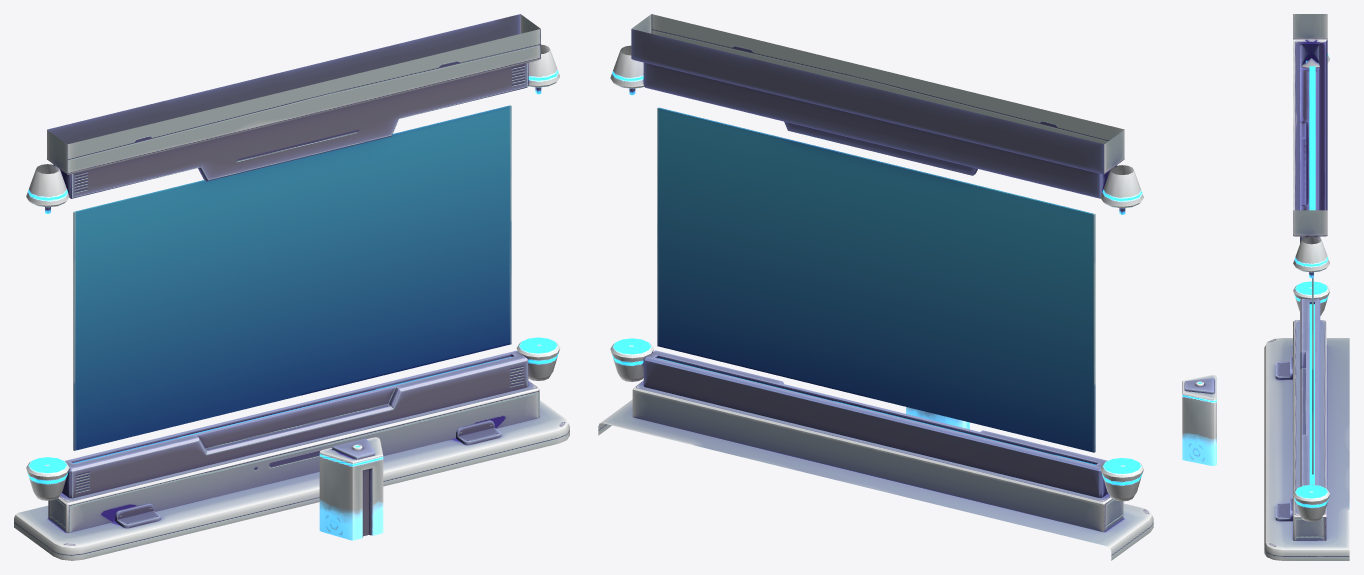
Rendered from Pantalla.fbx.
3 renders of one model, left to right at view 1: azimuth 30°, elevation 25°; view 2: azimuth 150°, elevation 25°; view 3: azimuth 270°, elevation 25°, orthographic. The views are drawn at different scales.
Visible parts, largest first — view 1: pantalla; view 2: pantalla; view 3: pantalla.
Boxes of the visible parts, left/top/right/bottom form: pantalla: left=14, top=14, right=569, bottom=560; pantalla: left=598, top=14, right=1153, bottom=560; pantalla: left=1182, top=14, right=1349, bottom=560.
Size of the model in its own units: 777 by 566 by 251.
1 material, 1 textured.
